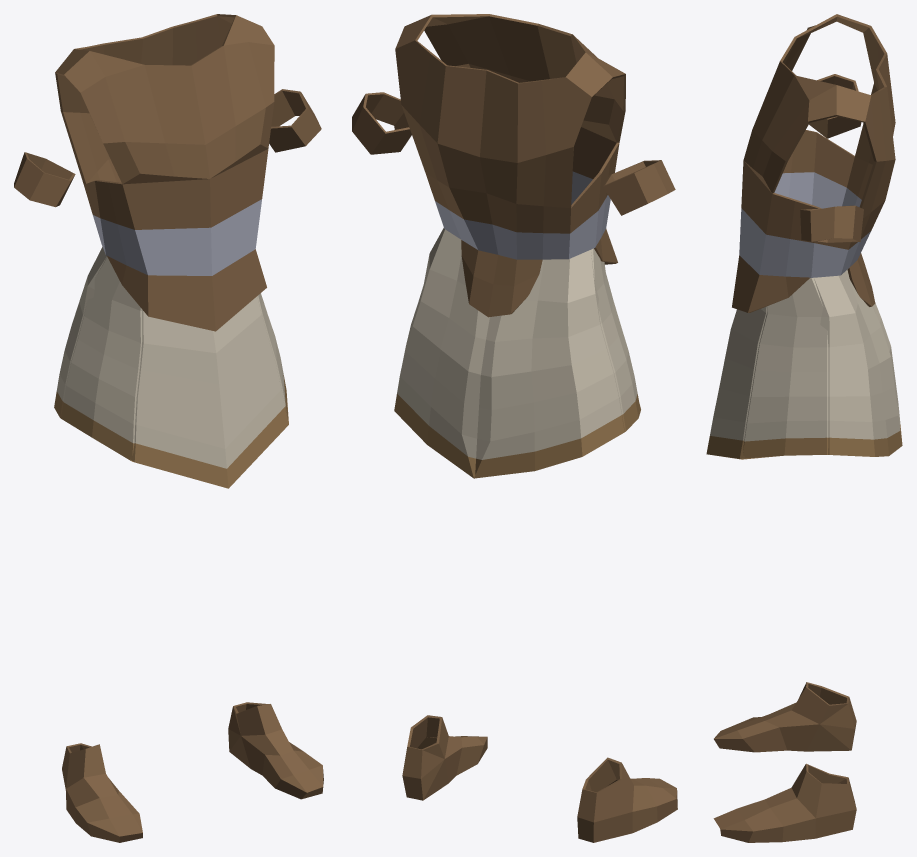
The model's file is M Greek Peltast.fbx.
3 views of the same model, side by side, from view 1: azimuth 30°, elevation 25°; view 2: azimuth 150°, elevation 25°; view 3: azimuth 270°, elevation 25° (orthographic). The views are drawn at different scales.
Parts seen in each view (by area): view 1: M Greek Peltast; view 2: M Greek Peltast; view 3: M Greek Peltast.
Boxes of the visible parts, x1,y1,x2,y2 form: M Greek Peltast: (14,14,323,842); M Greek Peltast: (352,14,677,842); M Greek Peltast: (706,14,902,842).
Bounding box in the file's own units: 125 × 295 × 71.02.
